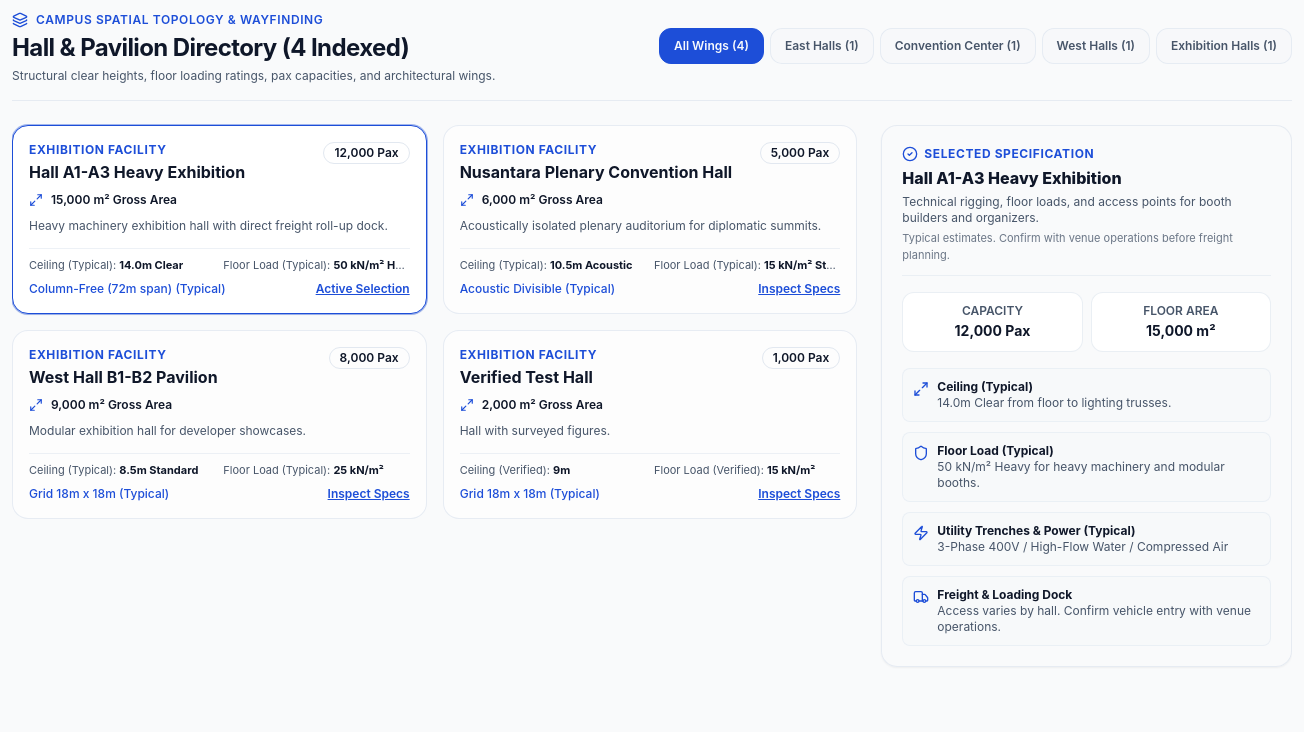
Test: VenueCampusExplorer Component › filters halls when selecting wing filter tabs
The image size is (1304, 732).
Click the button "East Halls (1)". click: [822, 46]
box: x1=770 y1=28 x2=874 y2=64
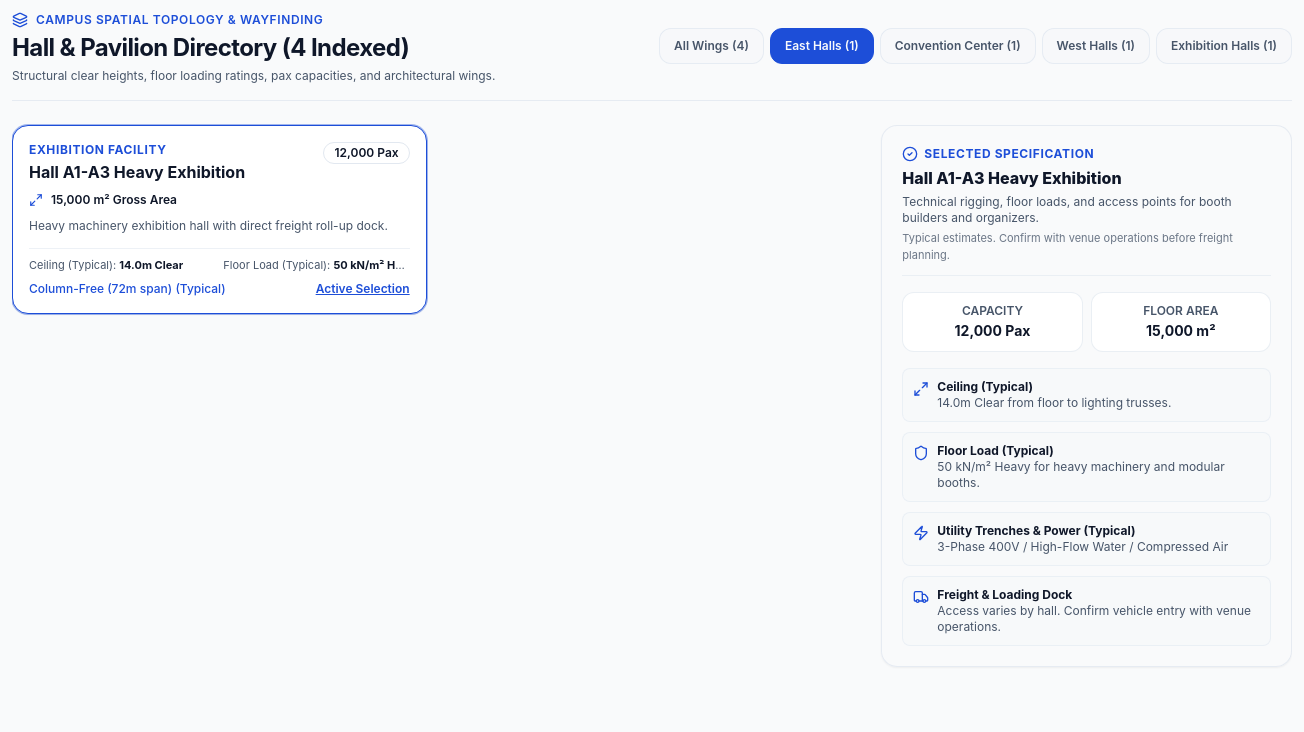
Expected: the button "West Hall B1-B2 Pavilion" is gone
